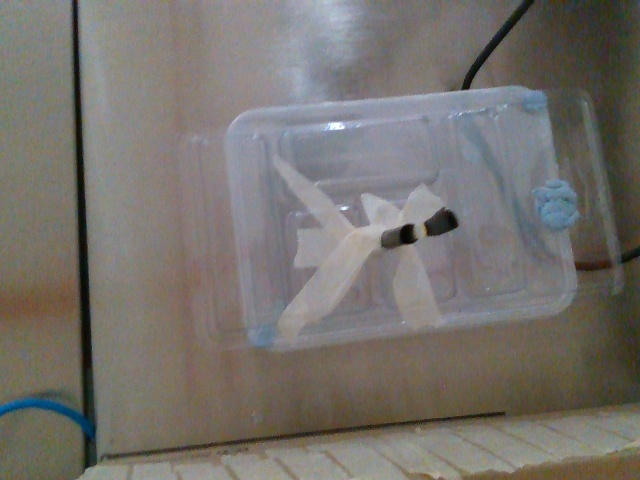test_strip: (413, 207, 457, 239)
